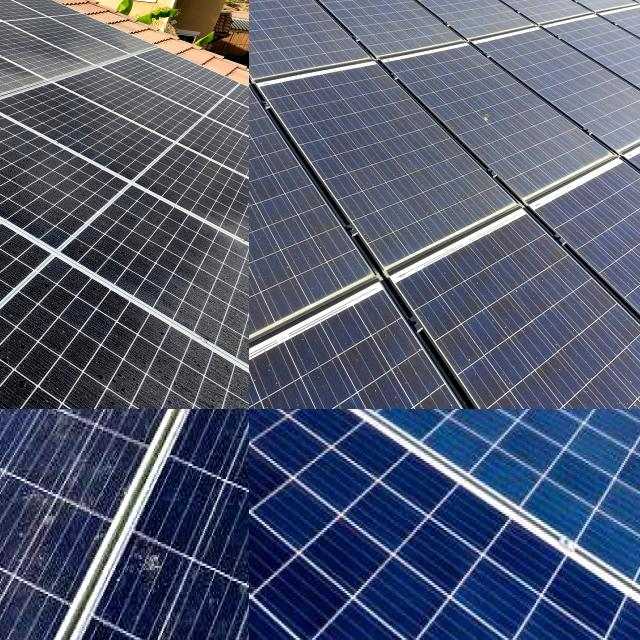bird: (134, 537, 173, 592), (0, 409, 21, 432)
crack: (249, 409, 627, 640), (249, 409, 640, 601), (389, 409, 640, 578), (279, 409, 556, 494), (249, 409, 487, 505), (249, 409, 415, 526), (249, 409, 481, 491), (489, 409, 640, 505)
dust: (467, 240, 572, 409), (0, 105, 142, 217), (249, 130, 312, 311), (0, 70, 118, 150), (2, 376, 249, 409), (336, 84, 402, 204), (0, 166, 44, 323), (301, 326, 413, 386), (132, 251, 249, 285), (608, 207, 640, 314)
